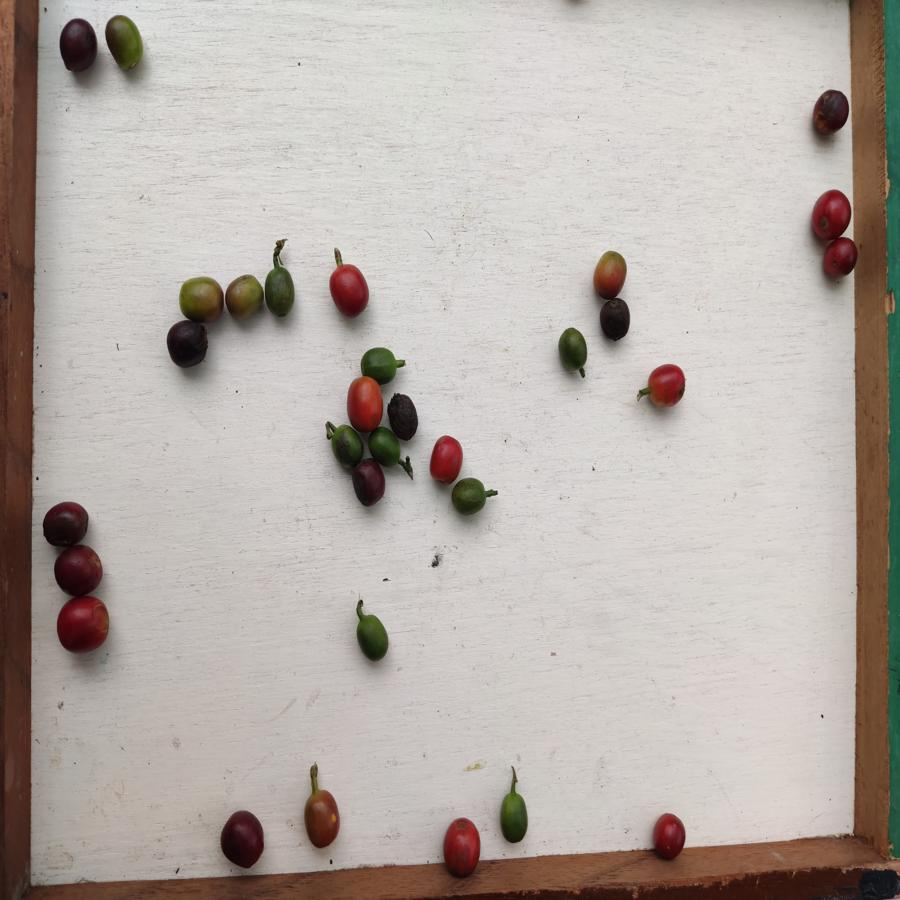Inmaduro: (262, 265, 299, 319), (354, 609, 391, 663), (497, 794, 532, 842), (558, 325, 590, 376), (450, 477, 490, 516), (326, 424, 361, 468), (359, 344, 404, 375), (368, 429, 401, 468)
Maduro: (54, 596, 113, 653), (438, 810, 484, 878), (327, 259, 373, 320), (642, 362, 689, 413), (809, 189, 851, 242), (343, 374, 384, 427), (649, 811, 690, 860), (425, 435, 464, 484), (822, 238, 859, 283)
Pinton: (104, 13, 146, 74), (304, 787, 342, 848), (177, 273, 225, 319), (222, 273, 263, 323), (589, 249, 631, 297)
Sobremaduro: (220, 809, 267, 872), (56, 16, 98, 79), (53, 549, 103, 597), (42, 501, 93, 546), (811, 85, 851, 137), (166, 323, 208, 369), (386, 393, 420, 443), (597, 298, 631, 344), (354, 459, 385, 509)
